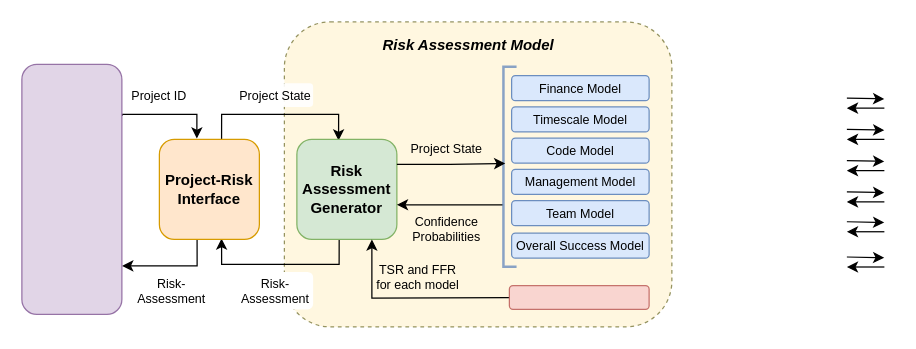
Some shapes in this 916 by 349 pixel diagram are drawn without their labels. The centre of each missing label's shape, as x and y in pixels:
Model Accuracies: (x=578, y=296)
Webpage Backend: (x=71, y=188)
